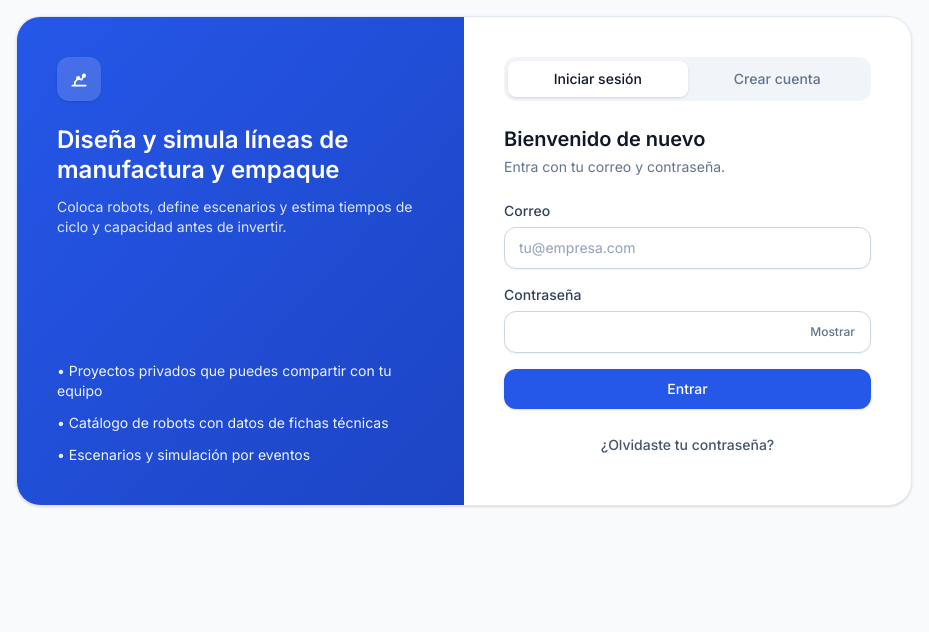
avisa si el correo ya tiene cuenta
Click the tab "Crear cuenta" at (777, 79), box [688,61,867,97]
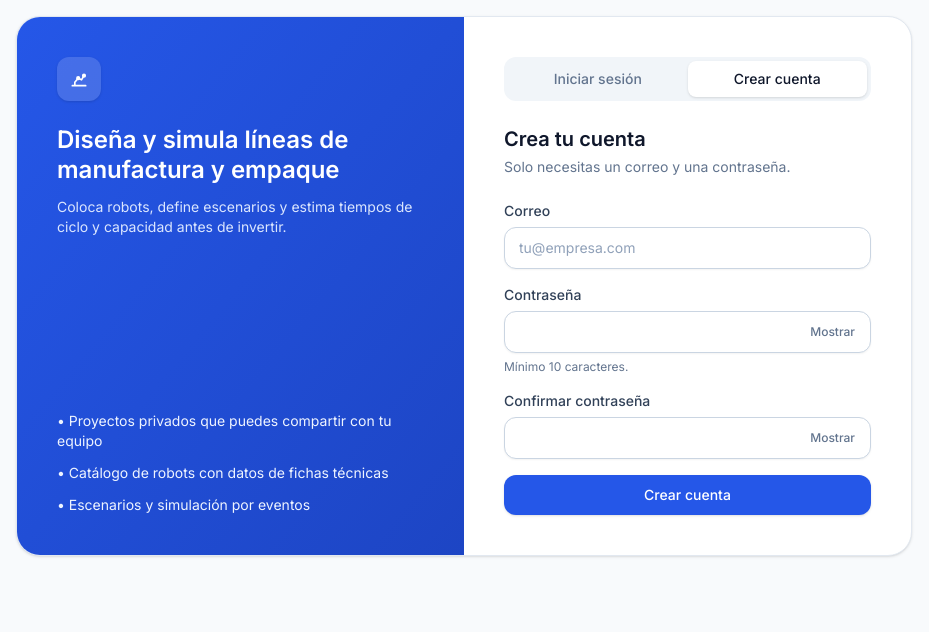
Type "nuevo@b.mx" into the field labelled "Correo" at (688, 248), box [504,227,871,269]
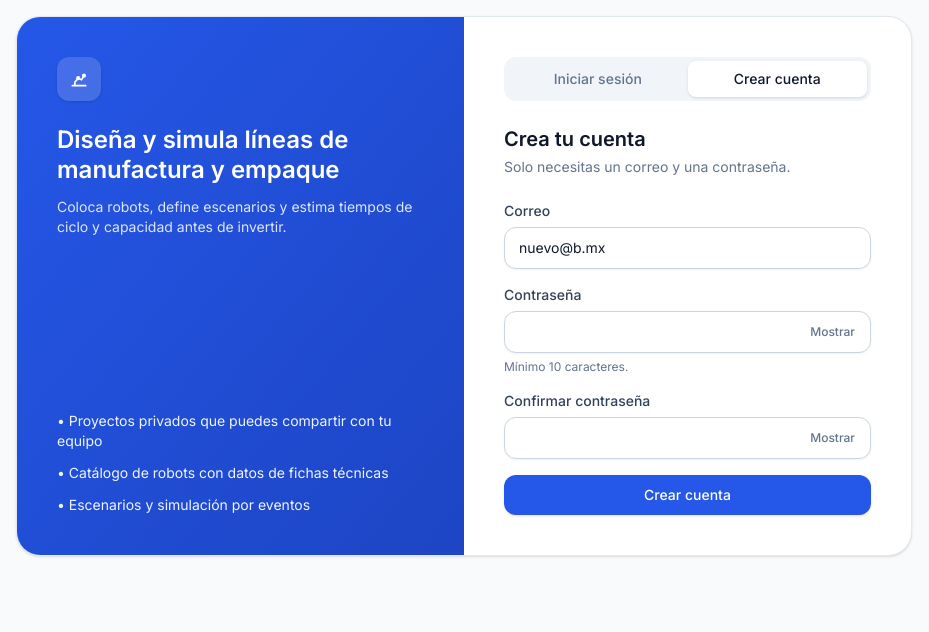
Type "unaclave-larga" into the password field labelled "Contraseña" at (688, 332), box [504,311,871,353]
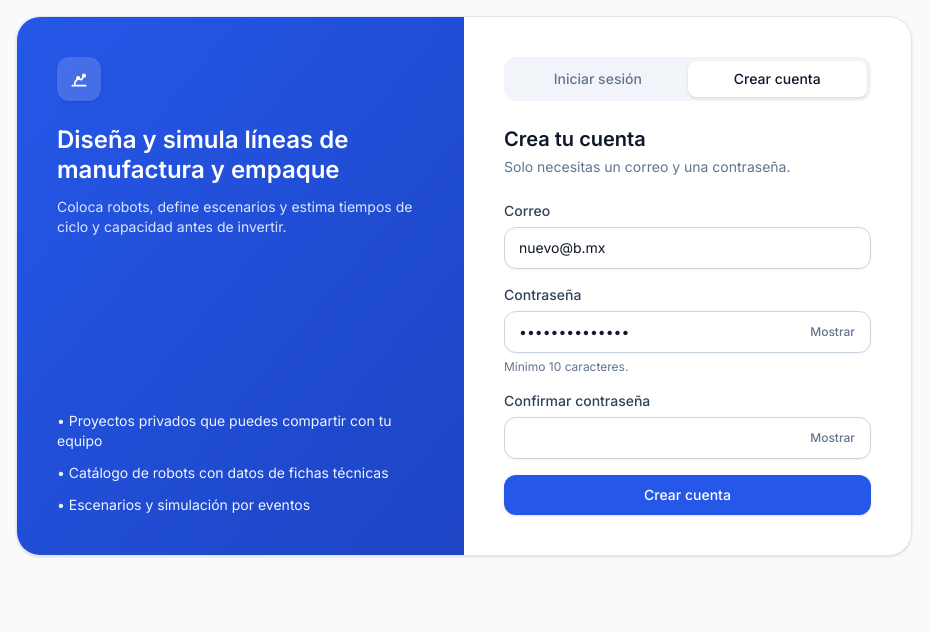
Type "unaclave-larga" into the password field labelled "Confirmar contraseña" at (688, 438), box [504,417,871,459]
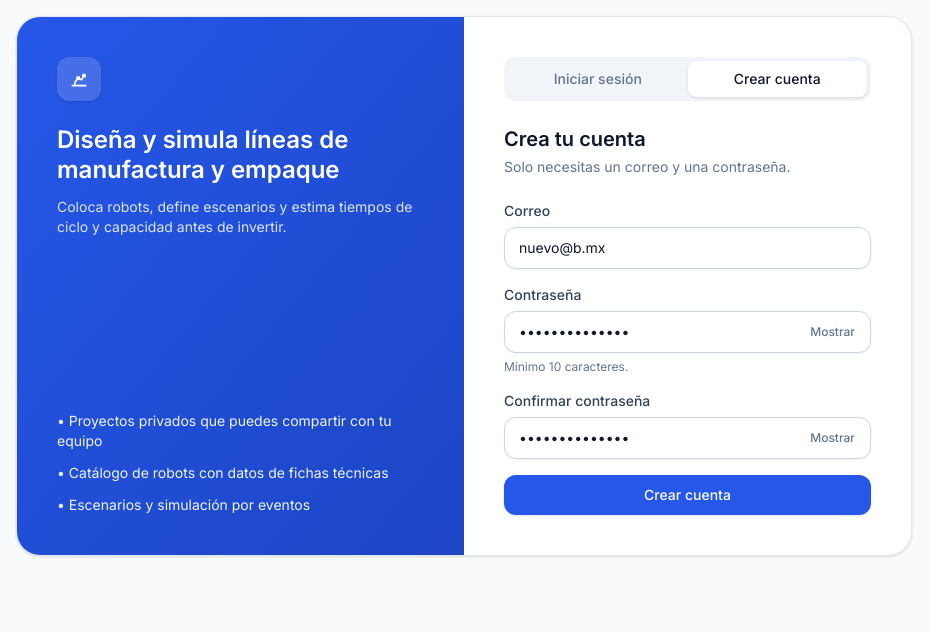
Click the button "Crear cuenta" at (688, 495), box [504,475,871,515]
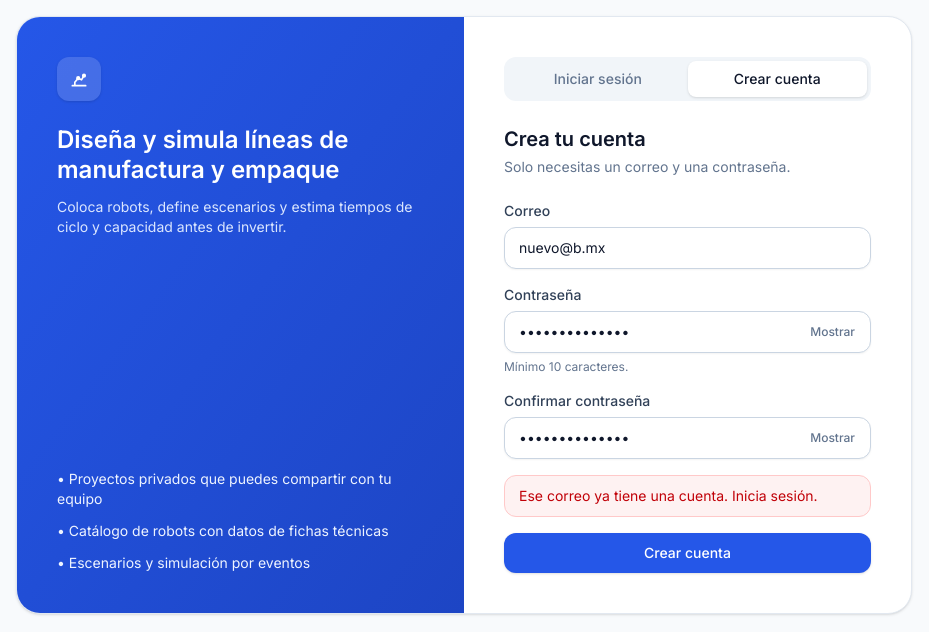
Expected: the message shows "ya tiene una cuenta", [519,487,818,504]
